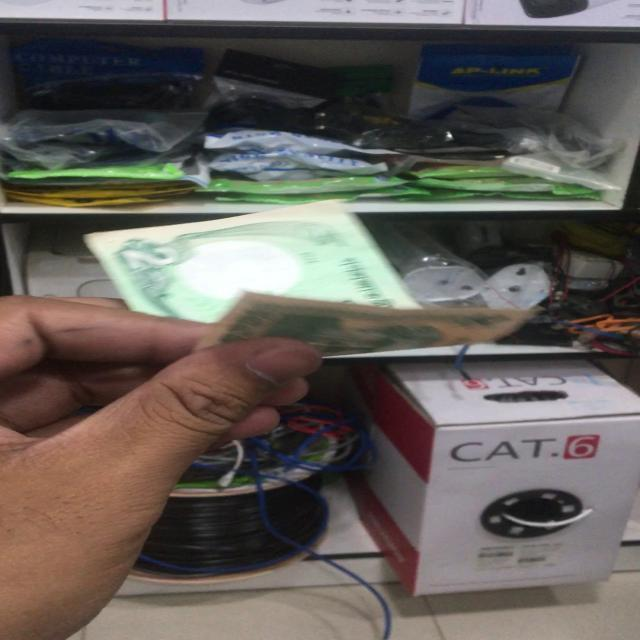Taka: (104, 220, 489, 357)
